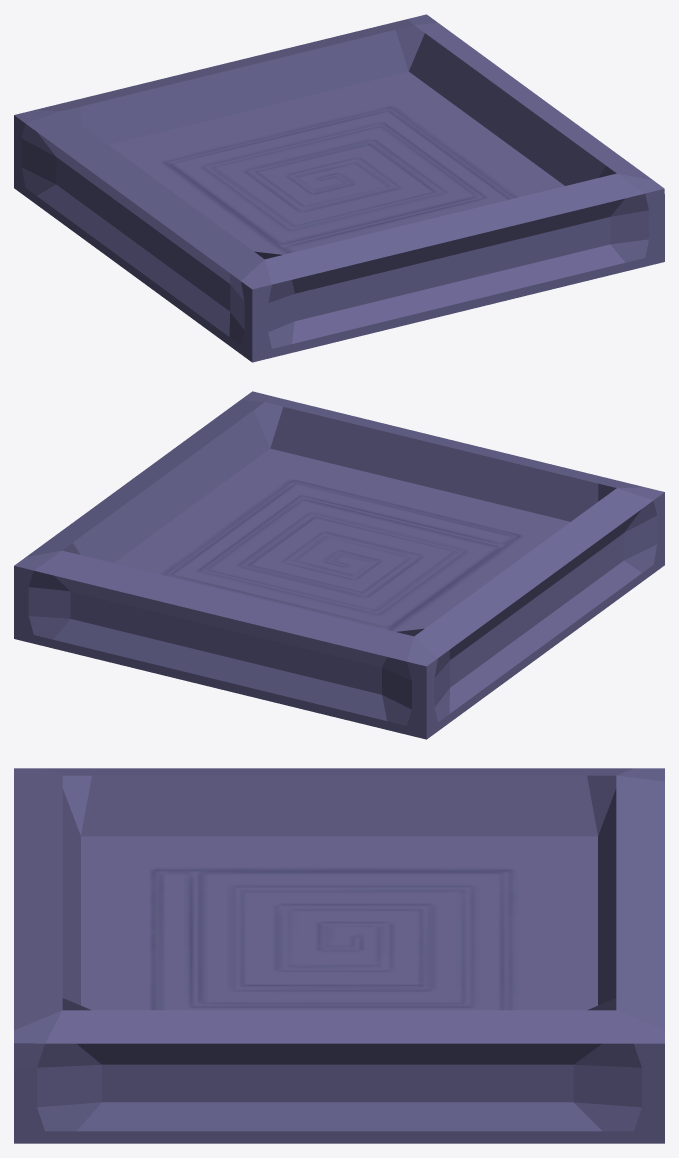
File: PuzzelBoxPlatePurple.obj
3 views of the same model, one above another, from view 1: azimuth 30°, elevation 25°; view 2: azimuth 150°, elevation 25°; view 3: azimuth 270°, elevation 25° (orthographic). The views are drawn at different scales.
Visible parts, largest first — view 1: pCube2; view 2: pCube2; view 3: pCube2.
Boxes of the visible parts, box(x1,y1,x2,y2) form: pCube2: box(14, 14, 664, 362); pCube2: box(14, 391, 664, 739); pCube2: box(14, 768, 664, 1143).
Bounding box in the file's own units: 4.38 × 0.8386 × 4.38.
